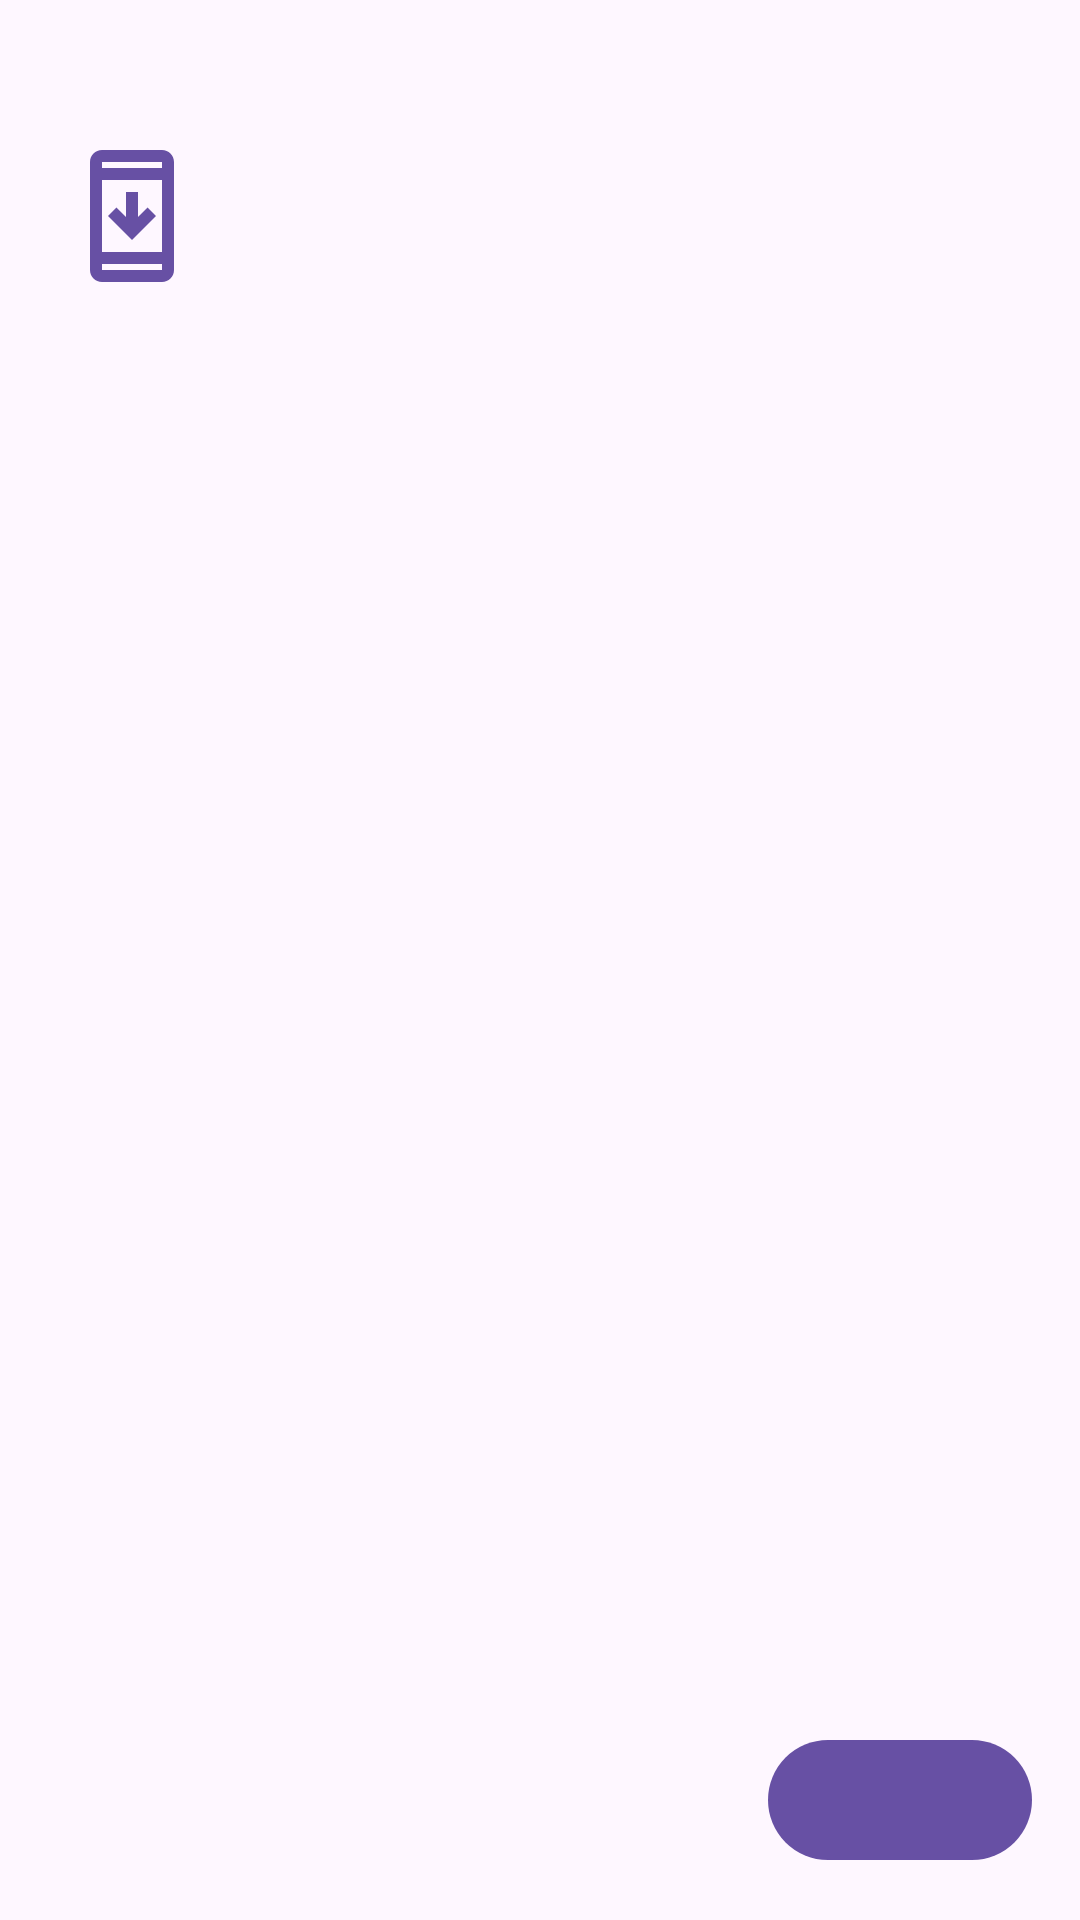

Where to tap for icons on this 1080x1920 app screen, as [x,y]:
security update: [132,216]
